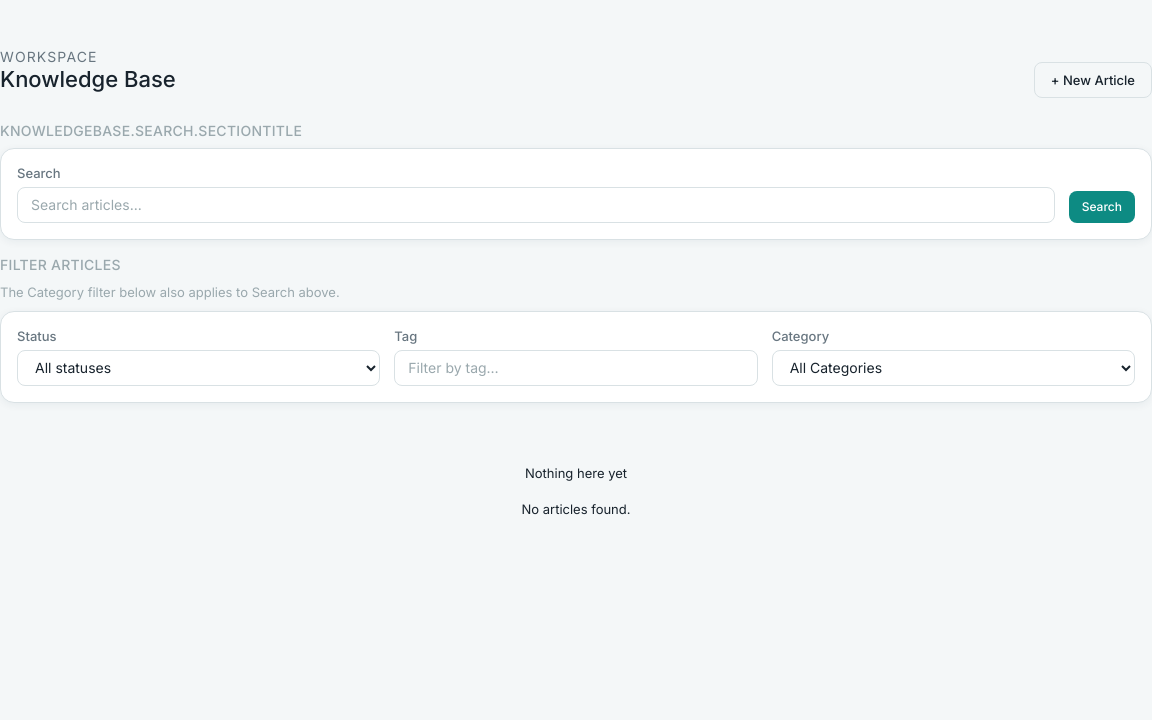
Test: KnowledgeBaseManagementView › renders the search bar and submits on Enter (button), showing results and forwarding the category filter
Type "billing" into the search field with id "kb-search".
click(536, 205); type("billing")  # box top-left (17, 187), bottom-right (1055, 223)
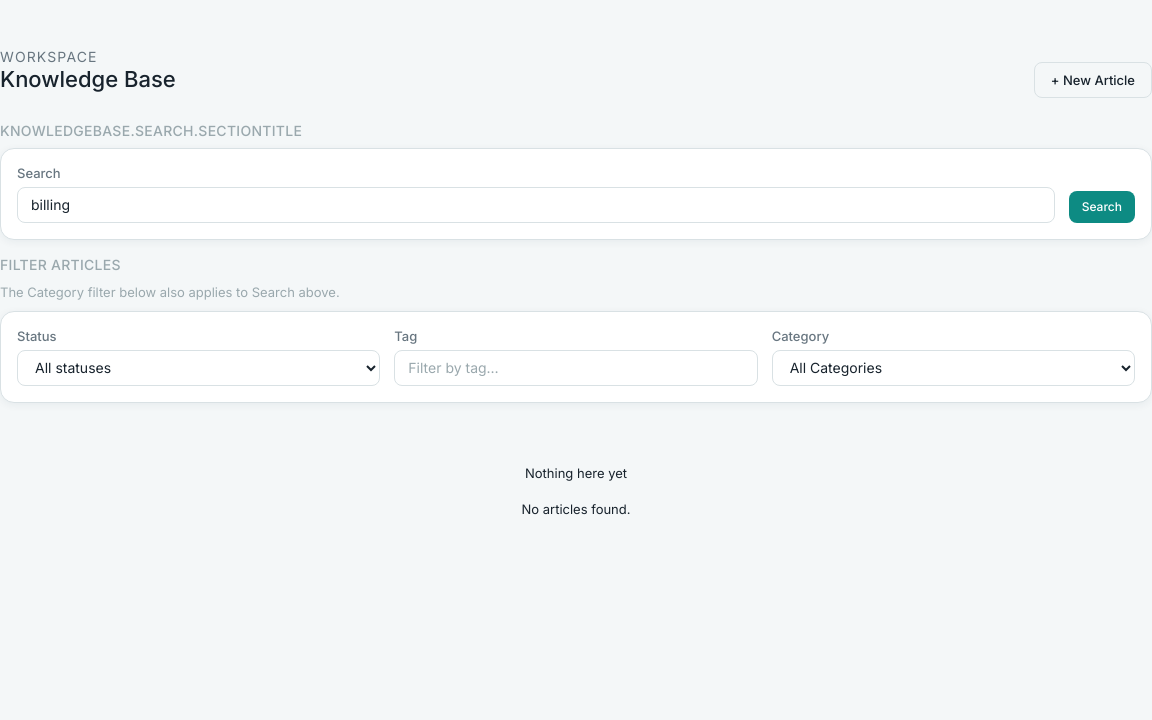
Select "Shipping" in the dropdown with id "kb-category-filter" at (953, 368), box top-left (772, 350), bottom-right (1135, 386)
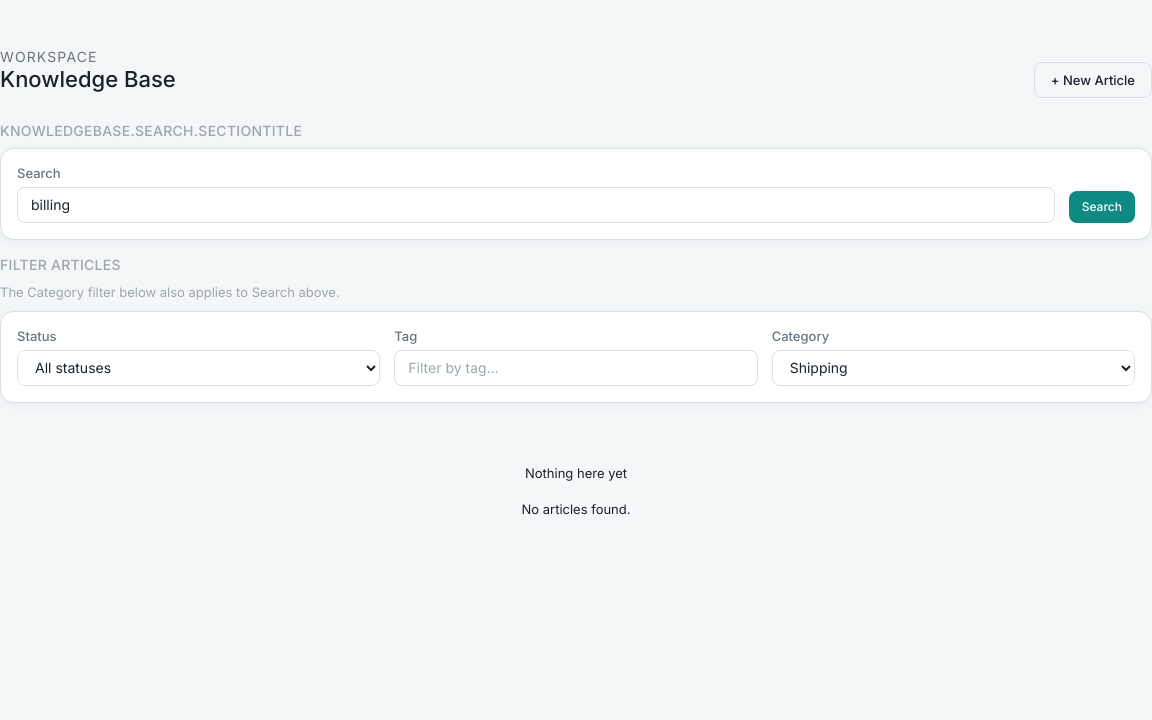
Select "Shipping" in the dropdown with id "kb-category-filter" at (953, 368), box top-left (772, 350), bottom-right (1135, 386)
Submit the form with class "toolbar" showing "Search Search", box top-left (0, 148), bottom-right (1151, 240)
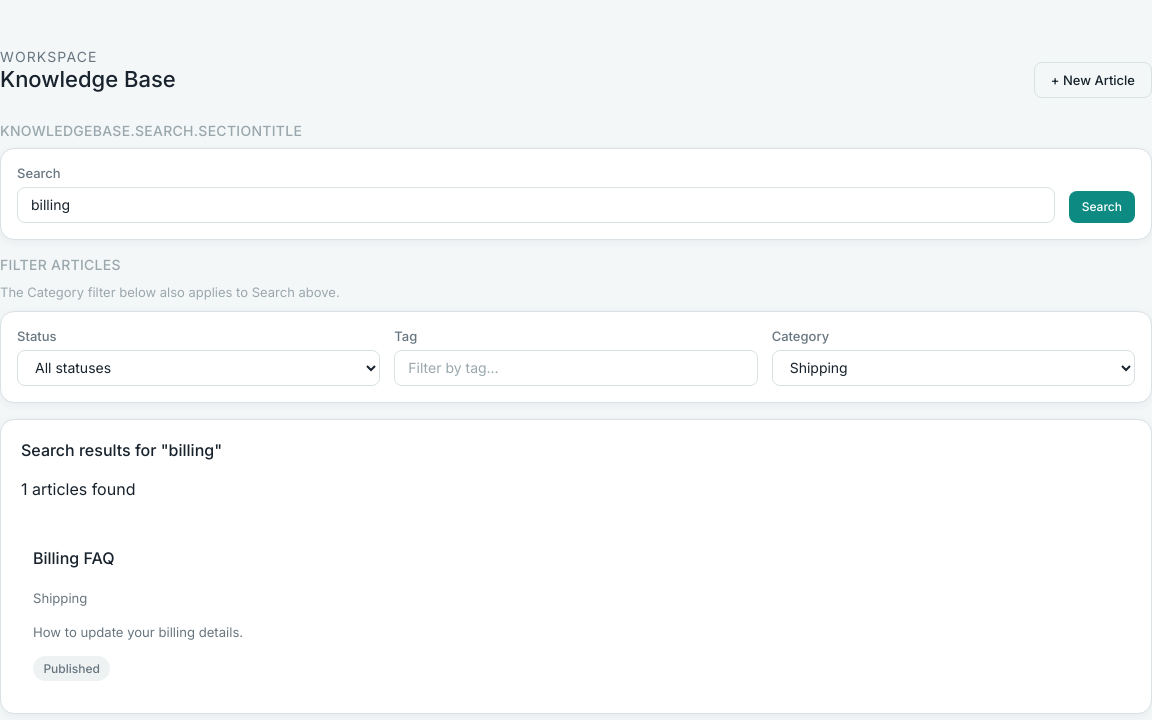
Now the text "Billing FAQ" is shown, box top-left (33, 548), bottom-right (114, 568)
Now the text "How to update your billing details." is shown, box top-left (33, 624), bottom-right (243, 640)
